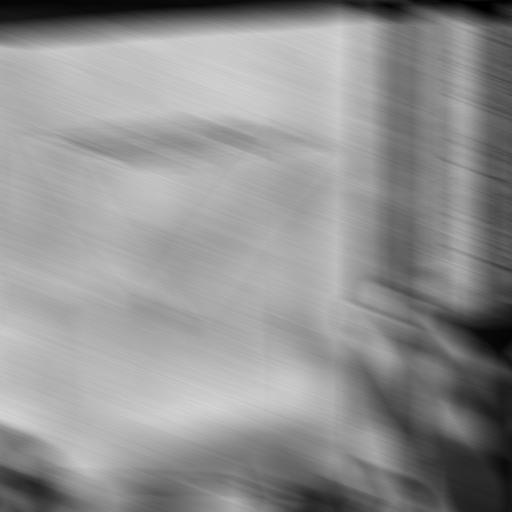envelop: (25, 118, 319, 506)
top_right: (363, 8, 387, 16)
